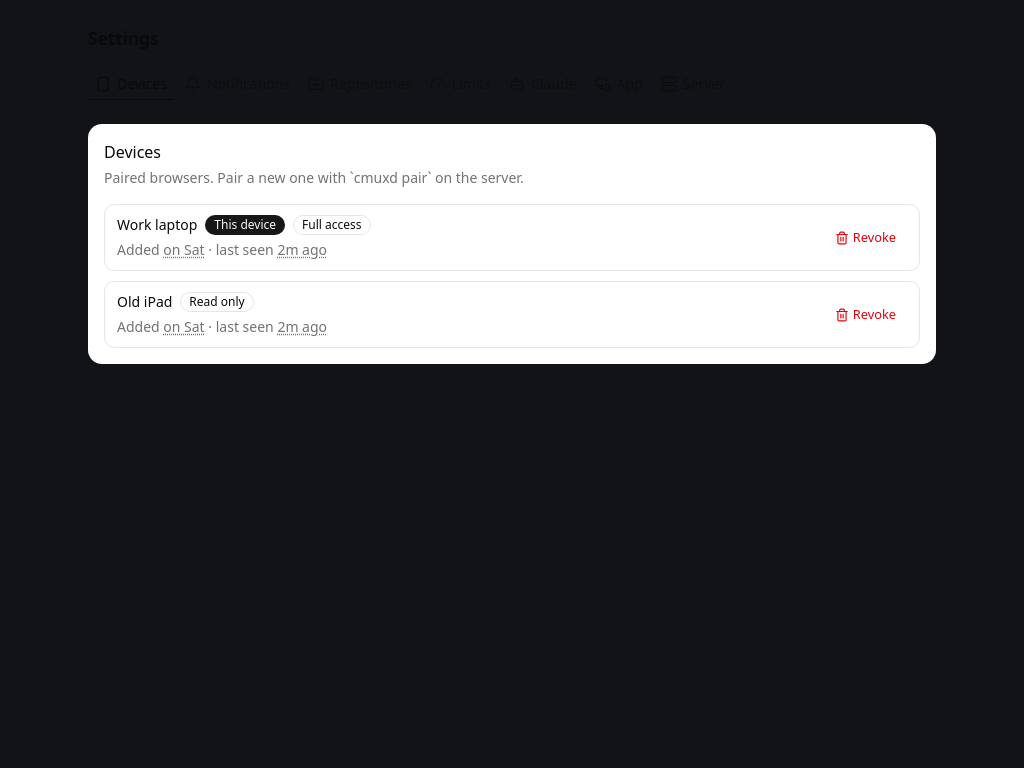
Test: Settings devices › marks this device and revokes another after an AlertDialog naming it
Expected: the text "This device" is shown, [205,215,285,235]
Expected: the text "Read only" is shown, [180,292,254,312]
What coordinates should you click on to do the following:
click the button with aria-label "Revoke Old iPad"
I would click on:
 (865, 314)
Its box is [824,300,907,328].
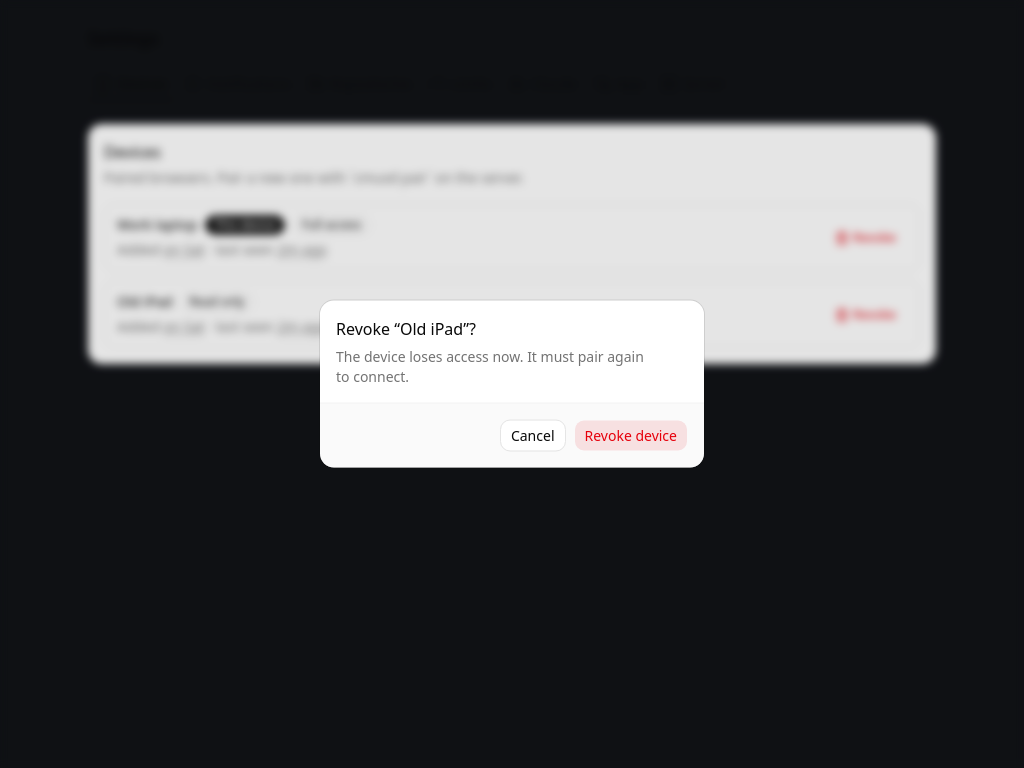
Expected: the heading "Revoke “Old iPad”?" is shown, [336,316,476,340]
What coordinates should you click on to do the following:
click the button "Revoke device"
I would click on:
 (631, 436)
Its box is [574,420,688,452].
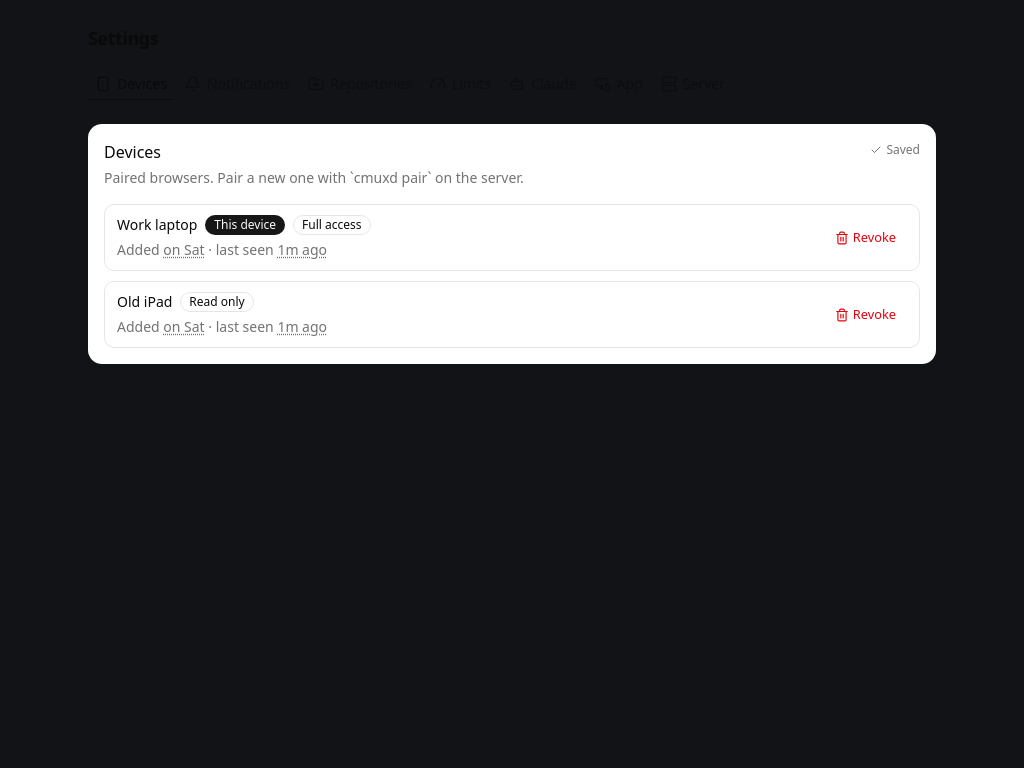
Expected: the text "Saved" is shown, [870,142,920,158]
